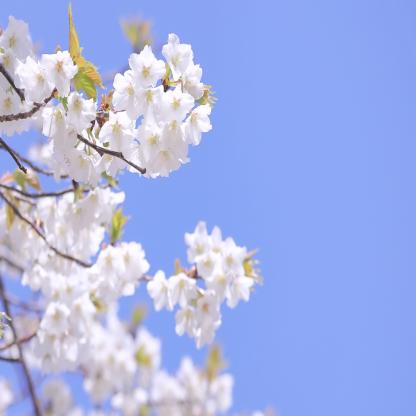OshimaSakura: (0, 13, 260, 414)
